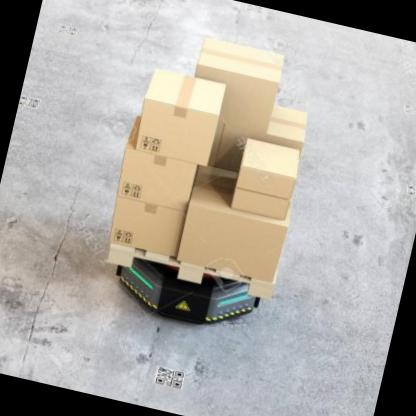box: (119, 57, 237, 172), (175, 28, 294, 140), (178, 180, 302, 287), (106, 127, 208, 212), (220, 134, 310, 224), (99, 186, 194, 266), (263, 102, 317, 162)
